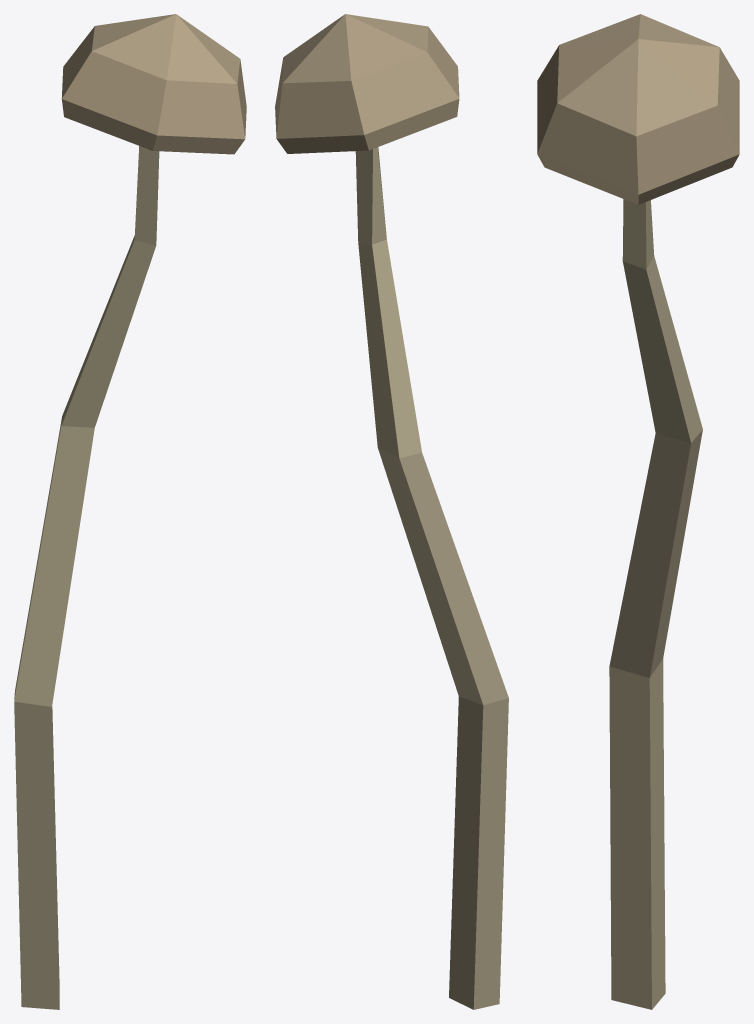
The model's file is Mushroom-D01.fbx.
3 renders of one model, left to right at view 1: azimuth 30°, elevation 25°; view 2: azimuth 150°, elevation 25°; view 3: azimuth 270°, elevation 25°, orthographic. The views are drawn at different scales.
Visible parts, largest first — view 1: Mushroom-D01; view 2: Mushroom-D01; view 3: Mushroom-D01.
Boxes of the visible parts, <box> form: Mushroom-D01: <box>14,14,246,1009</box>; Mushroom-D01: <box>275,14,508,1009</box>; Mushroom-D01: <box>537,14,739,1009</box>.
Size of the model in its own units: 21.06 by 82.31 by 14.68.
